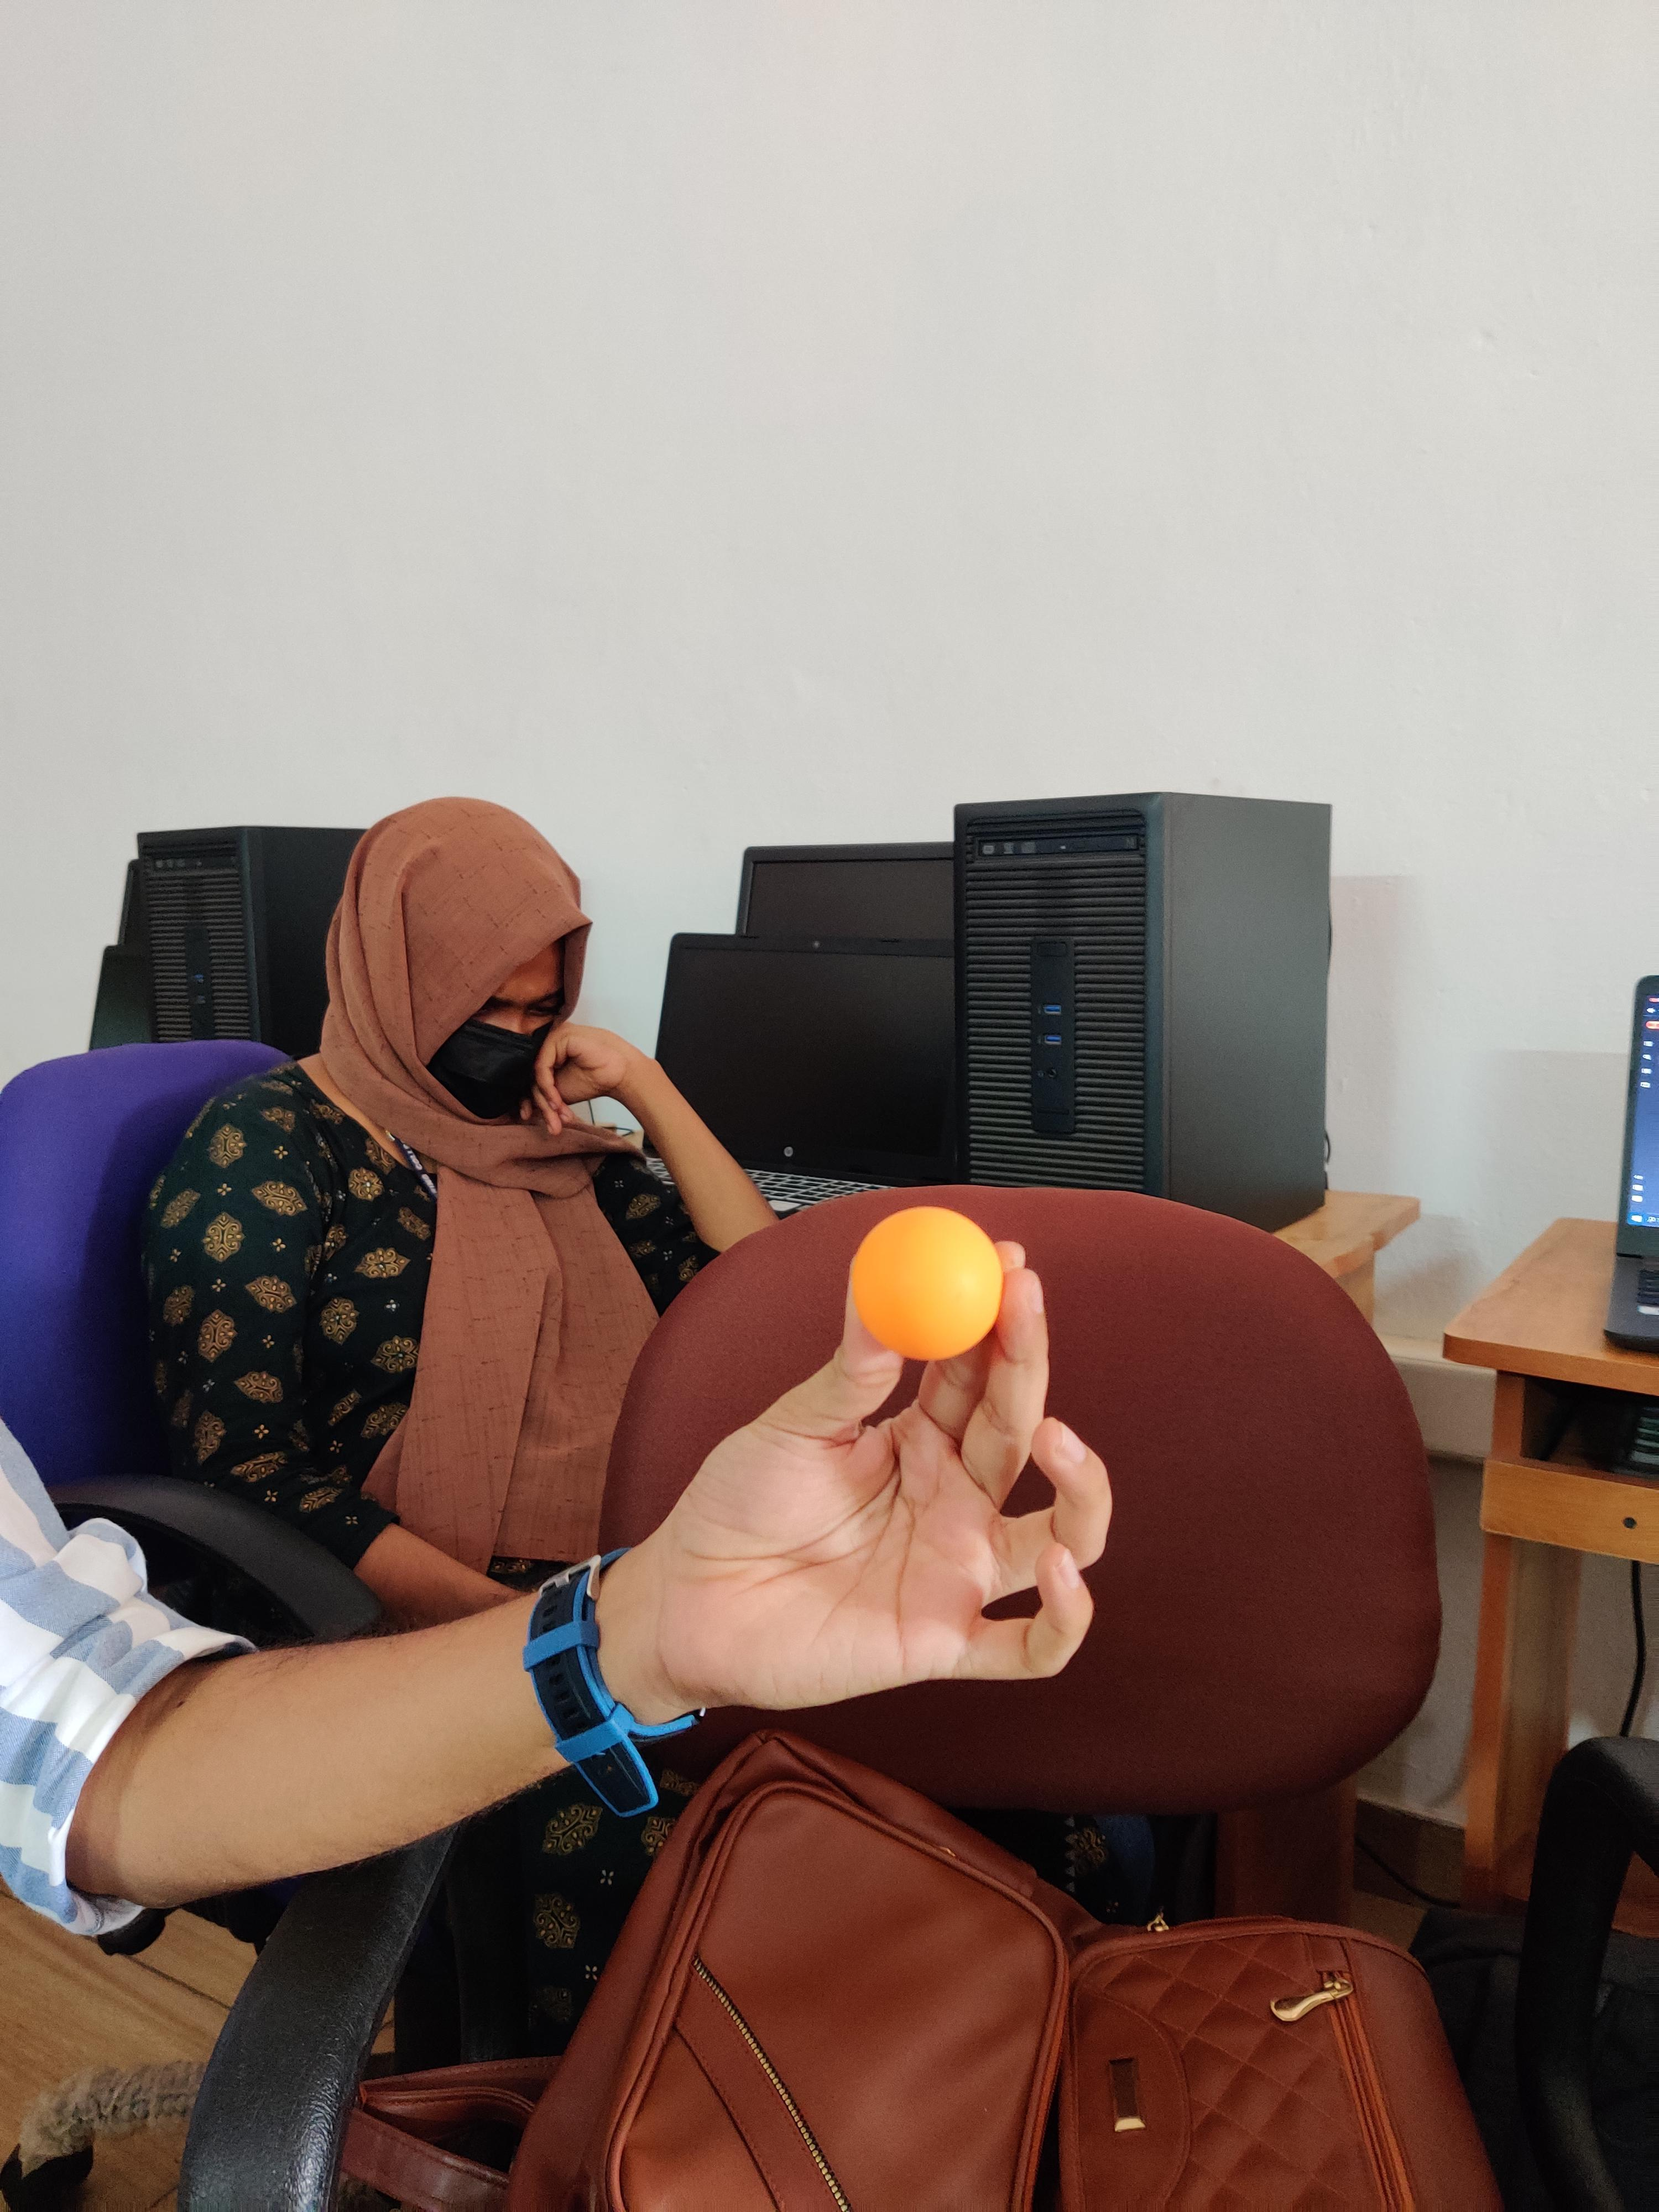orange: (856, 1205, 1007, 1364)
